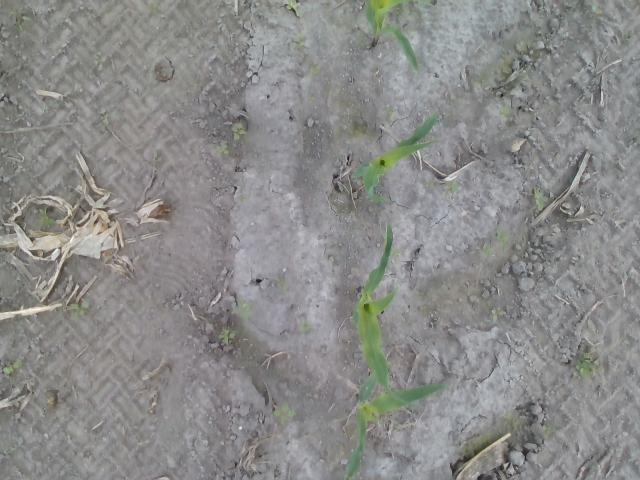Maize: (350, 222, 420, 408), (343, 383, 450, 480), (352, 110, 442, 202), (364, 0, 434, 73)
Weeds: (572, 350, 600, 378), (273, 403, 295, 426), (231, 299, 253, 320), (36, 208, 56, 228), (533, 186, 549, 210), (11, 8, 31, 27), (491, 228, 509, 247), (290, 31, 306, 50), (70, 301, 89, 317), (2, 360, 22, 374), (218, 328, 235, 344), (476, 243, 495, 257), (491, 306, 506, 322), (232, 123, 246, 140), (444, 180, 458, 196), (92, 55, 105, 70), (276, 277, 288, 293), (308, 64, 322, 77), (298, 320, 312, 333), (215, 144, 230, 156), (501, 104, 512, 120), (100, 108, 110, 125), (542, 423, 553, 438), (285, 0, 299, 11), (385, 105, 394, 121), (389, 248, 402, 256), (235, 194, 248, 202), (148, 3, 158, 12), (592, 6, 603, 14), (308, 94, 316, 104), (503, 412, 513, 420), (3, 446, 15, 452), (522, 66, 530, 73), (425, 180, 434, 186)
